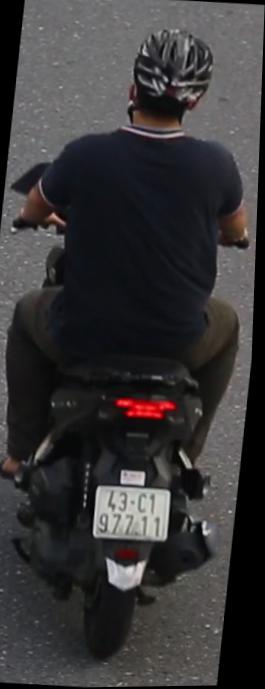LP: (93, 480, 177, 548)
helmet: (115, 18, 223, 157)
